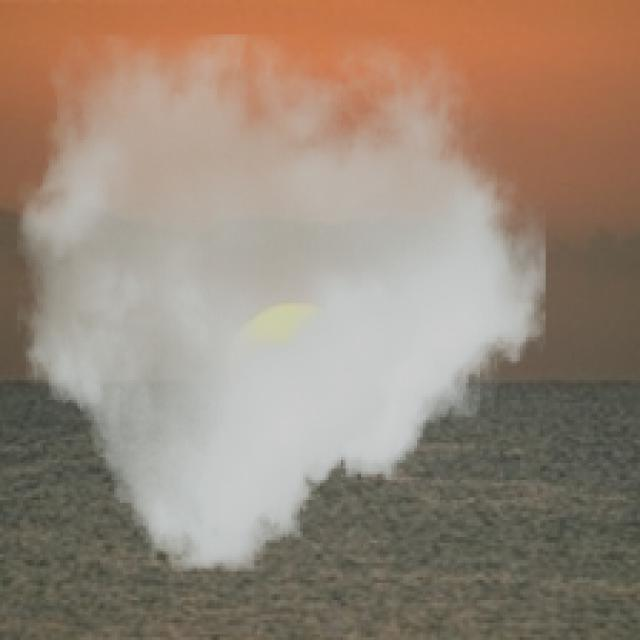Smoke: (17, 34, 546, 572)
